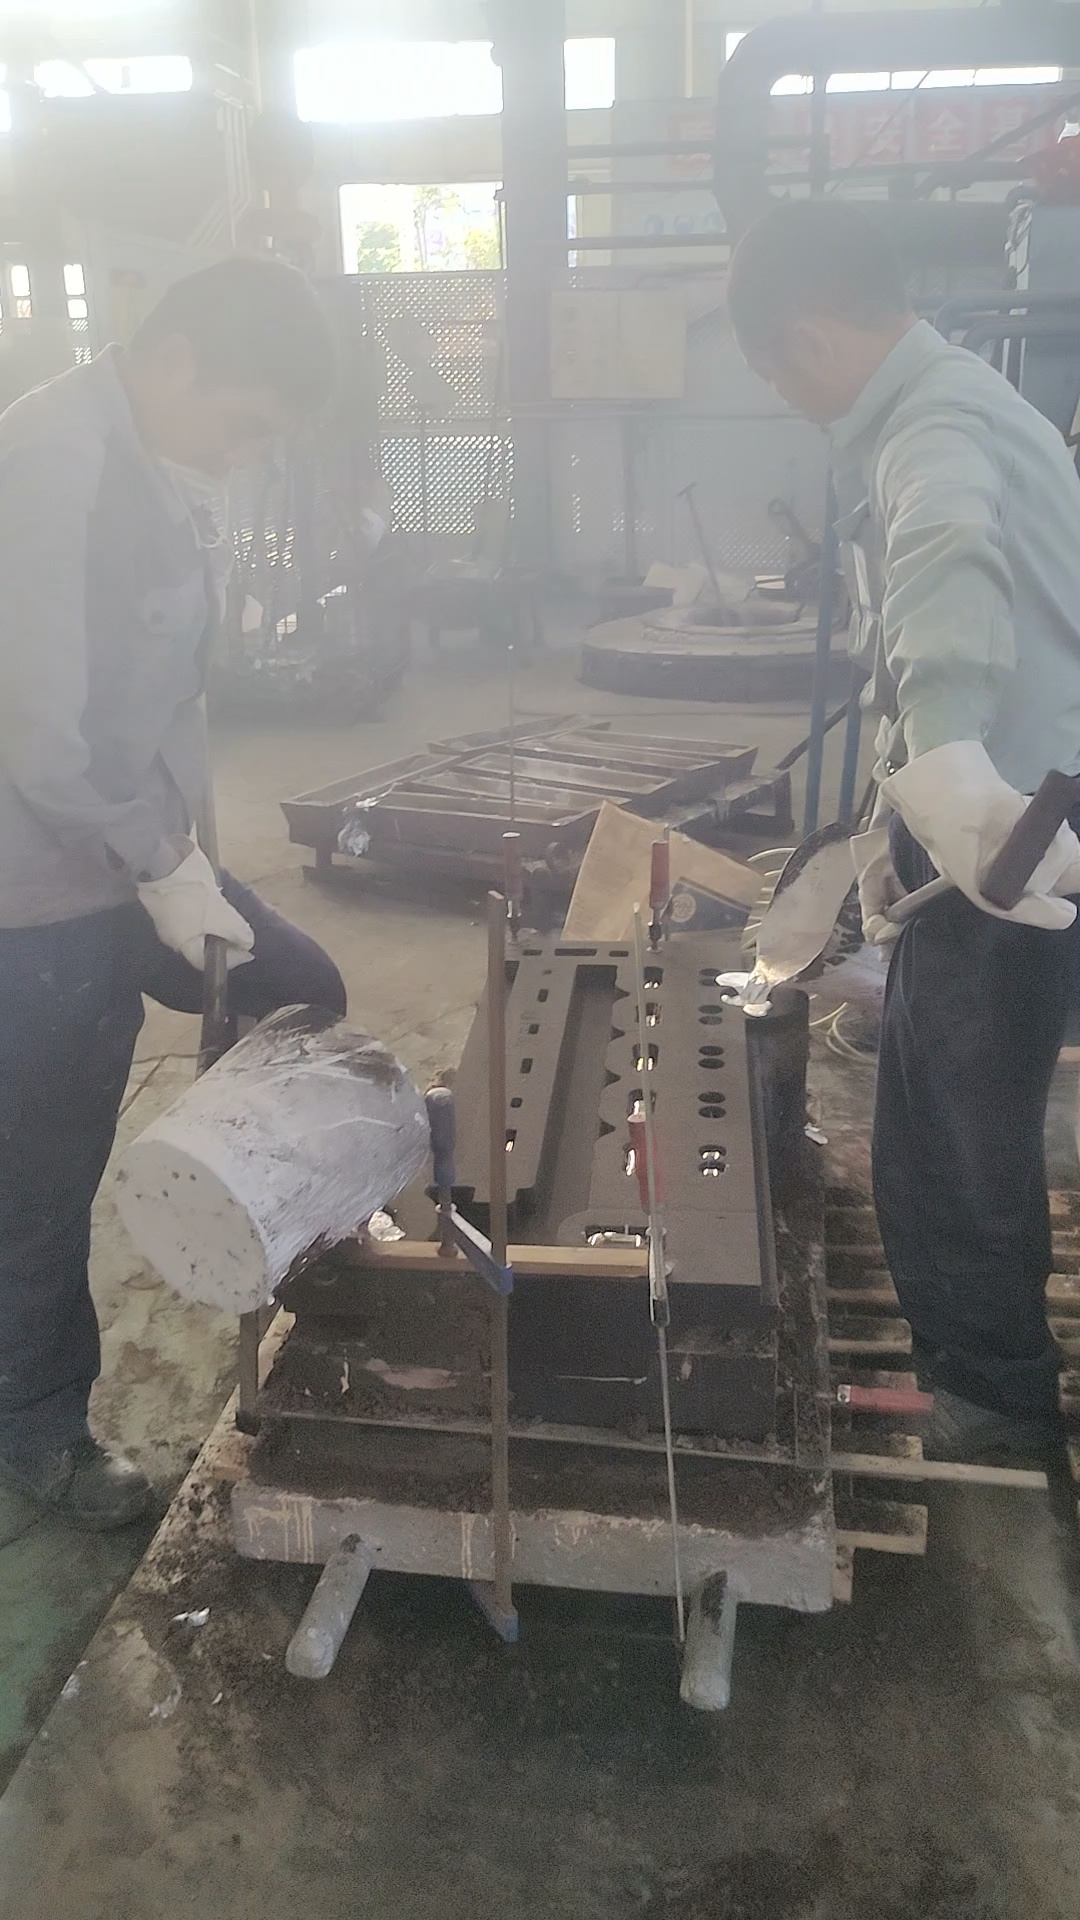pouring hole: (338, 1204, 397, 1244), (720, 985, 774, 1007)
